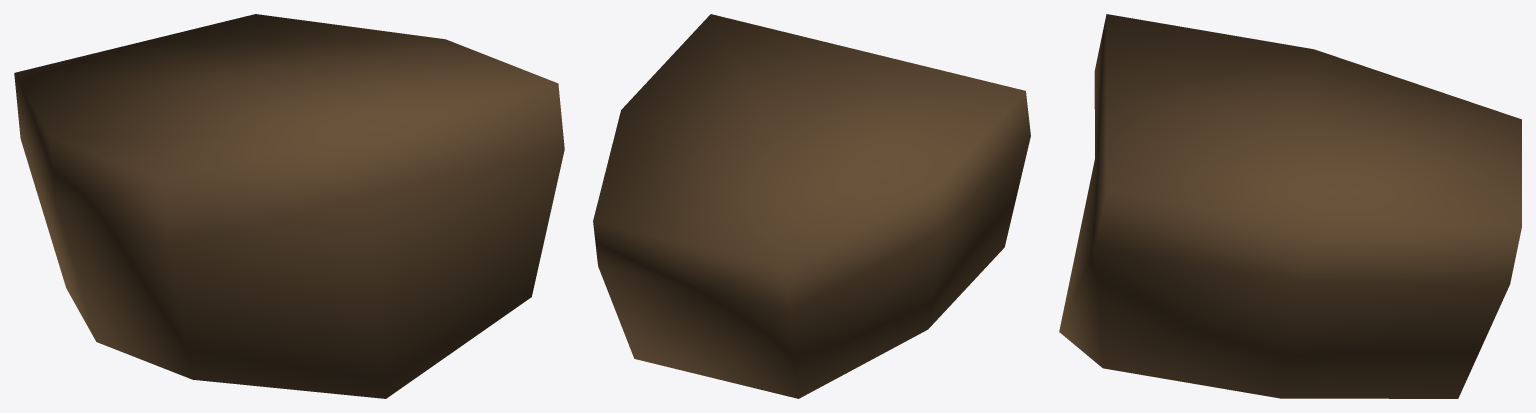
The model's file is ToeLeft.dae.
The picture shows the model from 3 angles, left to right: view 1: azimuth 30°, elevation 25°; view 2: azimuth 150°, elevation 25°; view 3: azimuth 270°, elevation 25°; orthographic projection. The views are drawn at different scales.
Visible parts, largest first — view 1: Toe_L; view 2: Toe_L; view 3: Toe_L.
Boxes of the visible parts, x1,y1,x2,y2 form: Toe_L: [14, 14, 564, 398]; Toe_L: [593, 14, 1030, 398]; Toe_L: [1059, 14, 1521, 398].
Bounding box in the file's own units: 0.0828 × 0.0909 × 0.0572.
